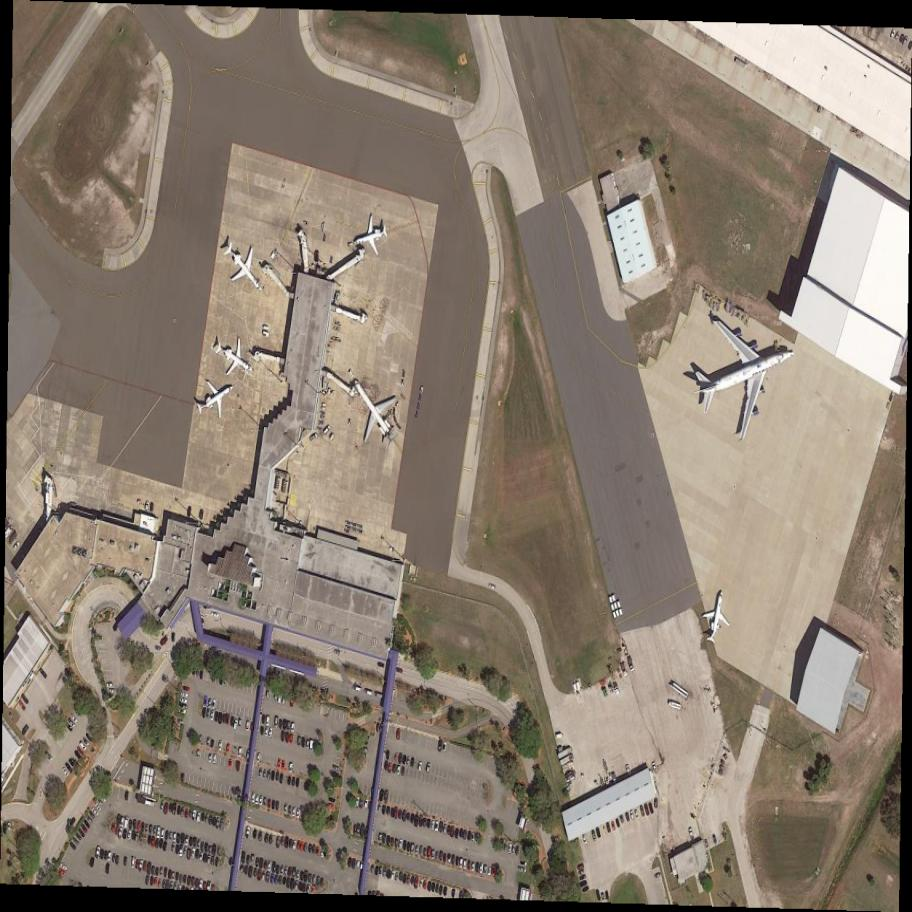large-vehicle: (556, 746, 575, 762), (559, 753, 575, 766), (626, 655, 636, 673), (620, 661, 629, 678), (613, 681, 621, 695)
plane: (680, 291, 809, 453), (329, 359, 417, 462), (210, 230, 278, 308), (201, 324, 271, 389), (185, 369, 247, 427), (695, 584, 737, 651), (350, 208, 393, 262)
small-vehicle: (159, 635, 171, 647), (565, 773, 578, 784), (78, 740, 89, 752), (70, 713, 81, 725), (309, 432, 320, 443), (321, 425, 332, 436), (244, 826, 252, 841), (67, 718, 77, 730), (651, 762, 660, 775), (902, 34, 910, 48), (688, 827, 696, 841), (625, 764, 633, 778), (277, 689, 284, 705), (20, 694, 30, 705), (64, 722, 74, 733), (44, 751, 54, 762), (487, 582, 498, 592), (68, 817, 77, 829), (611, 771, 618, 786), (595, 889, 603, 902), (590, 829, 598, 842), (437, 740, 445, 753), (85, 733, 95, 743), (59, 862, 69, 872), (576, 862, 586, 872), (61, 767, 70, 778), (65, 763, 74, 774), (73, 749, 82, 760), (82, 736, 91, 747), (88, 809, 97, 820), (94, 802, 103, 813), (21, 725, 30, 736), (12, 541, 21, 552), (39, 669, 48, 680), (648, 802, 655, 816), (639, 805, 647, 817), (247, 866, 254, 879), (267, 860, 274, 873), (219, 819, 226, 832), (595, 826, 602, 839), (80, 824, 89, 834), (83, 820, 92, 830), (91, 807, 100, 817), (147, 861, 153, 876), (18, 701, 26, 712), (78, 829, 86, 840), (115, 813, 122, 825), (120, 817, 127, 829), (284, 836, 290, 850), (398, 838, 405, 850), (889, 28, 896, 40), (582, 833, 589, 845), (367, 800, 374, 812), (364, 826, 370, 840), (75, 833, 84, 842), (85, 816, 94, 825), (580, 880, 589, 889), (76, 746, 84, 756), (893, 32, 901, 42), (212, 843, 218, 856), (241, 850, 247, 863), (257, 868, 263, 881), (161, 826, 167, 839), (159, 838, 165, 851), (179, 844, 185, 857), (140, 821, 146, 834), (294, 879, 300, 892), (276, 836, 282, 849), (187, 505, 193, 518), (164, 802, 170, 815), (95, 846, 101, 859), (402, 809, 408, 822), (414, 876, 420, 889), (382, 832, 388, 845), (629, 809, 635, 822), (644, 803, 650, 816), (214, 710, 220, 723), (218, 711, 224, 724), (356, 823, 362, 836), (89, 857, 96, 868), (614, 818, 621, 829), (704, 839, 711, 850), (180, 833, 186, 845), (265, 871, 271, 883), (191, 848, 197, 860), (214, 857, 220, 869), (124, 817, 130, 829), (150, 836, 156, 848), (58, 869, 67, 877), (69, 842, 77, 851), (72, 837, 80, 846), (97, 799, 105, 808), (115, 825, 121, 837), (135, 831, 141, 843), (215, 818, 221, 830), (188, 808, 194, 820), (196, 812, 202, 824), (380, 789, 386, 801), (459, 857, 465, 869), (410, 875, 416, 887), (427, 880, 433, 892), (606, 822, 612, 834), (582, 886, 591, 894), (712, 834, 718, 846), (207, 697, 213, 709), (233, 719, 239, 731), (238, 747, 244, 759), (386, 868, 392, 880), (417, 761, 423, 773), (426, 762, 432, 774), (351, 858, 357, 870), (239, 864, 246, 874), (126, 830, 133, 840), (114, 854, 121, 864), (624, 812, 631, 822), (518, 867, 528, 874), (179, 697, 189, 704), (364, 689, 374, 696), (374, 692, 384, 699), (261, 870, 267, 881), (308, 843, 314, 854), (180, 774, 186, 785), (262, 797, 268, 808), (258, 831, 264, 842), (147, 835, 153, 846), (149, 502, 155, 513), (142, 834, 148, 845), (158, 867, 164, 878), (163, 868, 169, 879), (186, 876, 192, 887), (204, 813, 210, 824), (111, 853, 117, 864), (135, 859, 141, 870), (262, 769, 268, 780), (446, 853, 452, 864), (438, 885, 444, 896), (406, 841, 412, 852), (212, 699, 218, 710), (209, 710, 215, 721), (198, 734, 204, 745), (286, 877, 291, 890), (291, 878, 296, 891), (272, 860, 277, 873), (315, 250, 320, 263), (139, 859, 144, 872), (414, 814, 419, 827), (386, 834, 391, 847), (230, 715, 235, 728), (289, 732, 294, 745), (228, 758, 233, 771), (361, 824, 366, 837), (282, 692, 287, 705), (396, 728, 401, 741), (68, 759, 76, 767), (179, 691, 188, 698), (332, 764, 341, 771), (185, 834, 190, 846), (193, 837, 198, 849), (197, 838, 202, 850), (209, 843, 214, 855), (246, 854, 251, 866), (253, 868, 259, 878), (164, 830, 170, 840), (171, 842, 176, 854), (175, 843, 180, 855), (157, 826, 162, 838), (137, 820, 142, 832), (300, 842, 306, 852), (287, 776, 293, 786), (298, 882, 304, 892), (284, 866, 290, 876), (298, 520, 303, 532), (162, 878, 167, 890), (132, 830, 137, 842), (139, 833, 145, 843), (143, 860, 148, 872), (172, 804, 177, 816), (185, 808, 190, 820), (105, 863, 110, 875), (100, 850, 106, 860), (267, 769, 272, 781), (455, 856, 460, 868), (384, 790, 389, 802), (439, 852, 444, 864), (398, 808, 403, 820), (402, 872, 407, 884), (431, 881, 436, 893), (431, 849, 436, 861), (391, 836, 396, 848), (410, 842, 415, 854), (619, 814, 625, 824), (899, 34, 905, 44), (611, 821, 617, 831), (281, 731, 286, 743), (236, 761, 241, 773), (208, 753, 214, 763), (206, 737, 212, 747), (196, 665, 201, 677), (262, 713, 267, 725), (355, 796, 360, 808), (359, 798, 364, 810), (348, 857, 353, 869), (383, 866, 388, 878), (274, 716, 279, 728), (290, 695, 295, 707), (353, 686, 363, 692), (375, 722, 381, 732), (442, 741, 447, 753), (428, 846, 432, 860), (578, 869, 586, 876), (654, 873, 662, 880), (192, 663, 196, 677), (359, 753, 367, 760), (172, 832, 177, 843), (176, 833, 181, 844), (205, 842, 210, 853), (217, 846, 222, 857), (244, 865, 249, 876), (270, 873, 275, 884), (274, 875, 279, 886), (207, 855, 212, 866), (163, 841, 168, 852), (133, 819, 138, 830), (145, 824, 150, 835), (297, 840, 302, 851), (292, 807, 297, 818), (292, 867, 297, 878), (276, 864, 281, 875), (296, 869, 301, 880), (304, 871, 309, 882), (312, 875, 317, 886), (316, 876, 321, 887), (320, 877, 325, 888), (253, 829, 258, 840), (265, 833, 270, 844), (160, 800, 165, 811), (199, 510, 204, 521), (191, 877, 196, 888), (158, 877, 163, 888), (177, 805, 182, 816), (181, 806, 186, 817), (201, 812, 206, 823), (123, 857, 128, 868), (463, 859, 468, 870), (476, 862, 481, 873), (382, 804, 387, 815), (378, 833, 383, 844), (394, 838, 399, 849), (423, 818, 428, 829), (634, 809, 639, 820), (439, 822, 444, 833), (258, 767, 263, 778), (204, 696, 209, 707), (223, 713, 228, 724), (245, 720, 250, 731), (250, 722, 255, 733), (306, 739, 311, 750), (265, 726, 270, 737), (266, 715, 271, 726), (226, 742, 231, 753), (289, 763, 294, 774), (396, 765, 401, 776), (410, 757, 415, 768), (388, 763, 393, 774), (279, 719, 284, 730), (291, 722, 296, 733), (145, 502, 151, 511), (211, 612, 220, 618), (179, 704, 188, 710), (182, 686, 191, 692), (328, 797, 337, 803), (367, 731, 376, 737), (362, 736, 371, 742), (480, 862, 484, 875), (395, 806, 399, 819), (451, 825, 455, 838), (227, 713, 231, 726), (275, 689, 279, 702), (183, 846, 188, 856), (203, 853, 208, 863), (128, 820, 133, 830), (292, 841, 297, 851), (291, 777, 296, 787), (279, 774, 284, 784), (302, 883, 307, 893), (280, 865, 285, 875), (300, 871, 305, 881), (155, 839, 160, 849), (199, 879, 204, 889), (168, 870, 173, 880), (175, 872, 180, 882), (192, 811, 197, 821), (104, 850, 109, 860), (386, 806, 391, 816), (419, 879, 424, 889), (415, 844, 420, 854), (431, 821, 436, 831), (399, 872, 404, 882), (238, 718, 243, 728), (246, 750, 251, 760), (218, 741, 223, 751), (210, 739, 215, 749), (364, 799, 369, 809), (402, 755, 407, 765), (394, 752, 399, 762), (187, 849, 191, 861), (153, 825, 157, 837), (289, 839, 293, 851), (264, 858, 268, 870), (154, 645, 162, 651), (119, 827, 123, 839), (272, 770, 276, 782), (468, 859, 472, 871), (411, 813, 415, 825), (419, 815, 423, 827), (436, 883, 440, 895), (403, 839, 407, 851), (420, 846, 424, 858), (579, 875, 587, 881), (224, 674, 228, 686), (310, 740, 314, 752), (302, 737, 306, 749), (203, 707, 207, 719), (177, 719, 185, 725), (399, 752, 403, 764), (354, 824, 358, 836), (199, 852, 204, 861), (183, 875, 188, 884), (601, 892, 606, 901), (605, 891, 610, 900), (455, 829, 460, 838), (177, 709, 186, 714), (267, 685, 270, 700), (189, 837, 193, 848), (201, 841, 205, 852), (256, 857, 260, 868), (211, 856, 215, 867), (149, 824, 153, 835), (279, 875, 283, 886), (284, 804, 288, 815), (297, 808, 301, 819), (289, 805, 293, 816), (252, 792, 256, 803), (308, 874, 312, 885), (7, 822, 11, 833), (172, 632, 176, 643), (196, 878, 200, 889), (146, 875, 150, 886), (169, 802, 173, 813), (213, 817, 217, 828), (108, 851, 112, 862), (132, 858, 136, 869), (472, 861, 476, 872), (484, 865, 488, 876), (443, 853, 447, 864), (436, 851, 440, 862), (427, 819, 431, 830), (407, 875, 411, 886), (444, 885, 448, 896), (424, 848, 428, 859), (435, 821, 439, 832), (516, 845, 520, 856), (463, 829, 467, 840), (508, 844, 512, 855), (512, 844, 516, 855), (269, 728, 273, 739), (213, 753, 217, 764), (200, 669, 204, 680), (261, 726, 265, 737), (393, 764, 397, 775), (401, 766, 405, 777), (375, 865, 379, 876), (287, 721, 291, 732), (386, 750, 390, 761), (196, 850, 200, 860), (283, 876, 287, 886), (272, 801, 276, 811), (296, 779, 300, 789), (276, 771, 280, 781), (260, 858, 264, 868), (288, 867, 292, 877), (180, 875, 184, 885), (123, 829, 127, 839), (152, 866, 156, 876), (209, 816, 213, 826), (378, 803, 382, 813), (391, 807, 395, 817), (424, 880, 428, 890), (395, 872, 399, 882), (654, 798, 658, 808), (447, 825, 451, 835), (460, 829, 464, 839), (468, 831, 472, 841), (391, 871, 395, 881), (207, 709, 211, 719), (298, 737, 302, 747), (257, 753, 261, 763), (197, 749, 201, 759), (407, 756, 411, 766), (385, 761, 389, 771), (360, 860, 364, 870), (371, 864, 375, 874), (361, 747, 369, 752), (286, 731, 289, 744), (220, 673, 223, 686), (252, 854, 255, 866), (169, 832, 173, 841), (316, 847, 320, 856), (268, 799, 272, 808), (260, 797, 264, 806), (255, 796, 259, 805), (281, 837, 285, 846), (156, 867, 160, 876), (154, 877, 158, 886), (488, 867, 492, 876), (109, 689, 116, 694), (305, 842, 308, 853), (276, 801, 279, 812), (4, 824, 7, 835), (172, 870, 175, 881), (151, 875, 154, 886), (452, 855, 455, 866), (284, 719, 287, 730), (407, 813, 411, 821), (313, 845, 316, 855), (444, 825, 447, 835), (282, 760, 285, 770), (278, 759, 281, 769), (362, 742, 369, 746), (270, 835, 273, 844), (126, 792, 129, 801), (472, 833, 475, 842), (505, 844, 508, 853), (380, 867, 383, 876), (107, 684, 113, 688), (327, 804, 334, 807)
